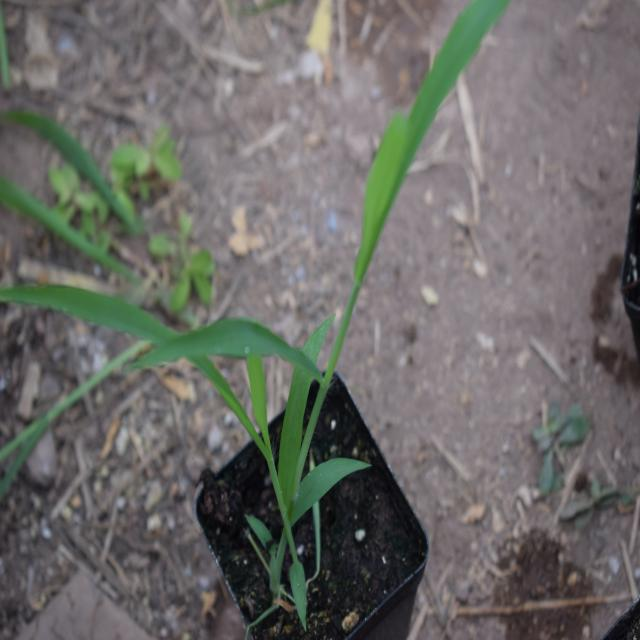crabgrass: (79, 236, 377, 552)
